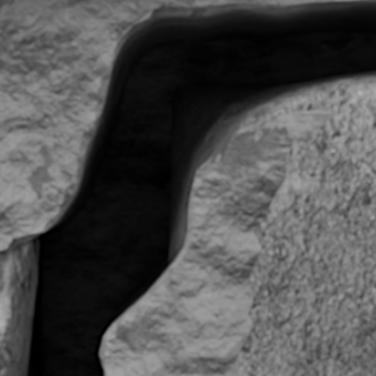brick: (236, 90, 375, 375), (0, 253, 7, 375)
crack: (2, 0, 375, 375)
